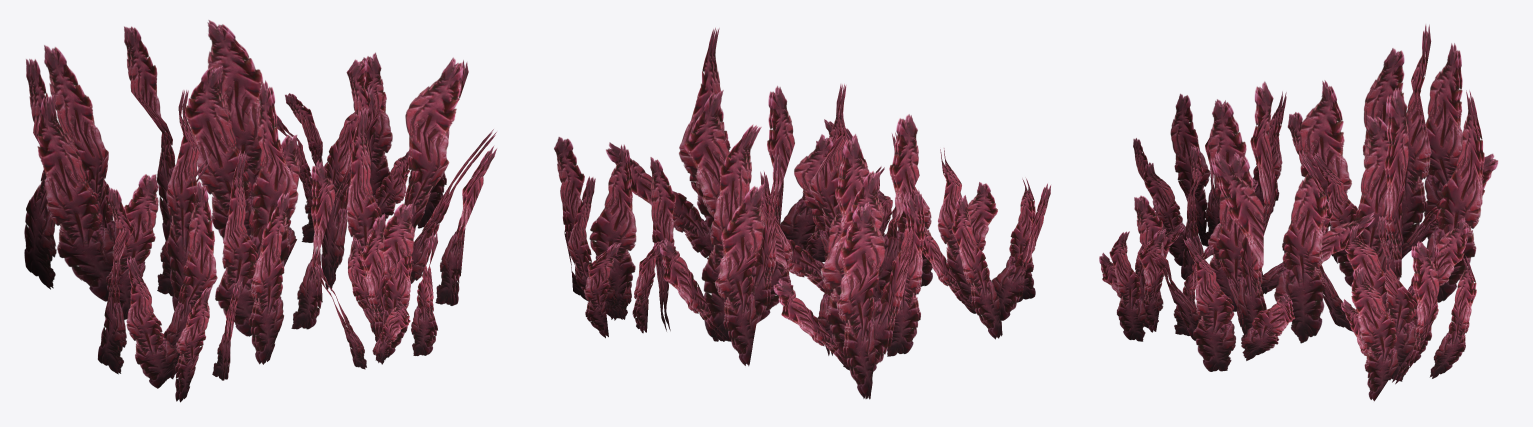
File: SeaWeed07_LOD0_FattooCreater.glb
3 renders of one model, left to right at view 1: azimuth 30°, elevation 25°; view 2: azimuth 150°, elevation 25°; view 3: azimuth 270°, elevation 25°, orthographic. The views are drawn at different scales.
Parts seen in each view (by area): view 1: SeaWeed07_high; view 2: SeaWeed07_high; view 3: SeaWeed07_high.
Boxes of the visible parts, box(x1,y1,x2,y2) form: SeaWeed07_high: box(24, 20, 496, 402); SeaWeed07_high: box(554, 27, 1050, 399); SeaWeed07_high: box(1099, 24, 1498, 401).
Size of the model in its own units: 0.3135 by 0.1777 by 0.2852.
Materials: 1 (1 with a texture image).
